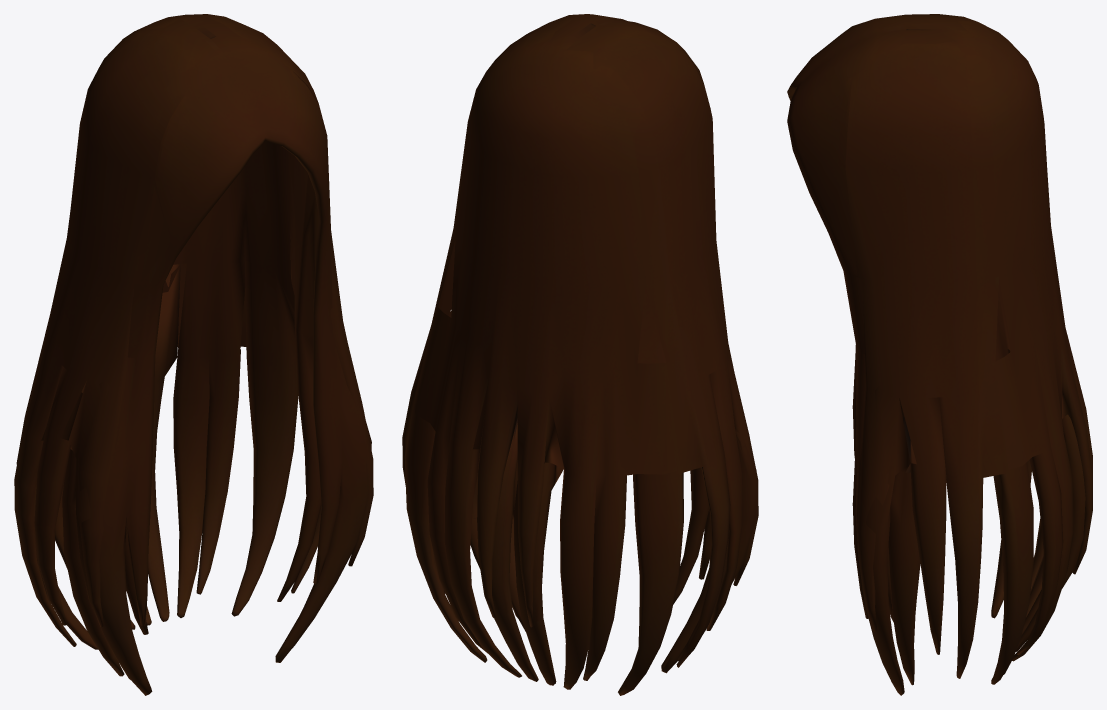
File: hair4.fbx
3 views of the same model, side by side, from view 1: azimuth 30°, elevation 25°; view 2: azimuth 150°, elevation 25°; view 3: azimuth 270°, elevation 25° (orthographic).
Visible parts, largest first — view 1: texture_pbr_v128; view 2: texture_pbr_v128; view 3: texture_pbr_v128.
Boxes of the visible parts, bbox=[...] form: texture_pbr_v128: bbox=[14, 14, 373, 695]; texture_pbr_v128: bbox=[402, 14, 758, 695]; texture_pbr_v128: bbox=[787, 14, 1092, 695].
Size of the model in its own units: 61.15 by 116 by 50.74.
Materials: 1 (1 with a texture image).
